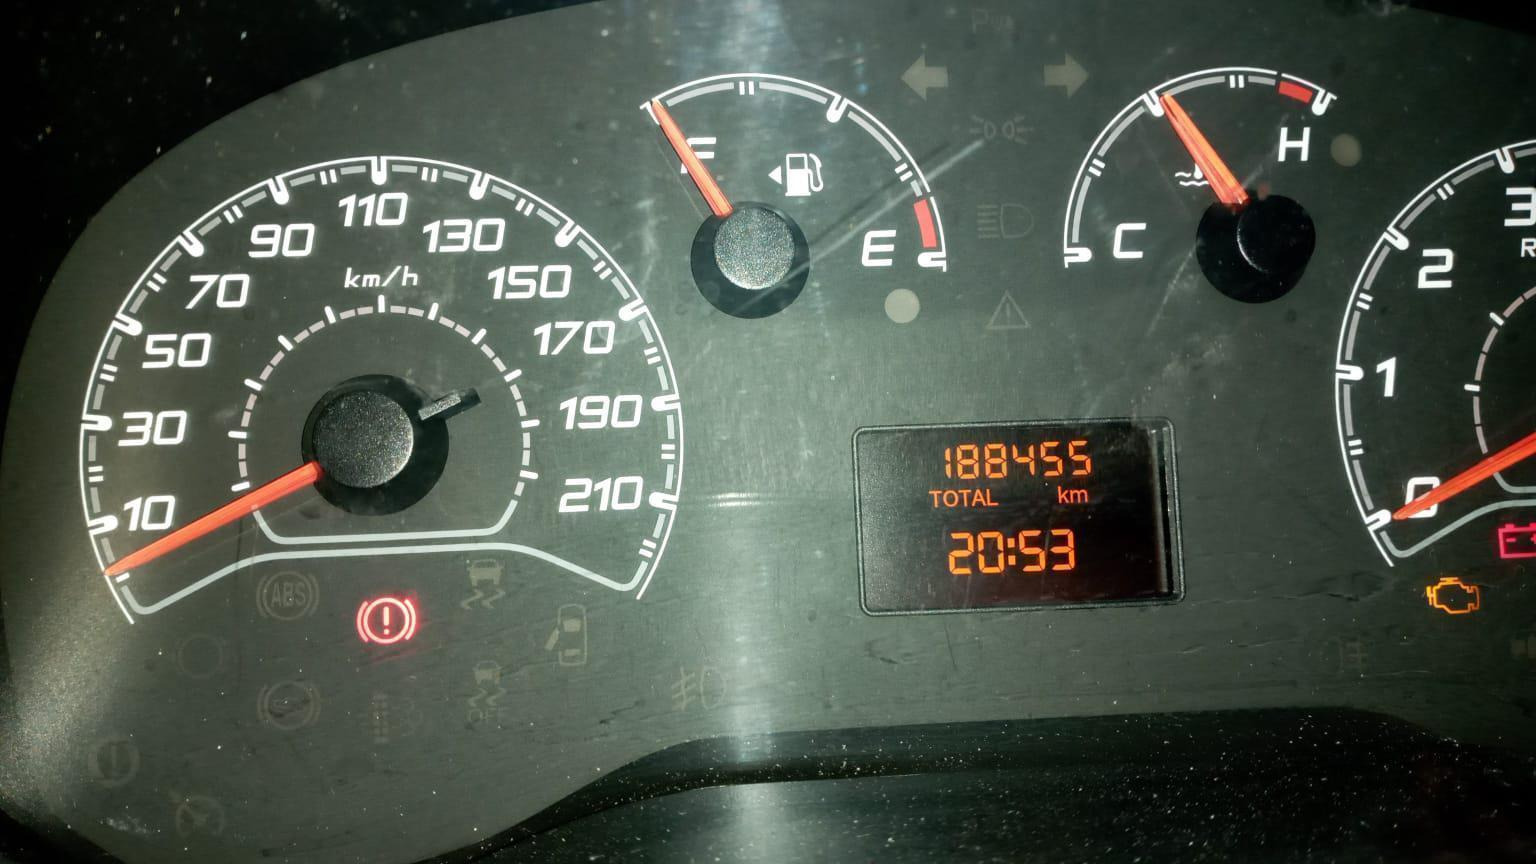0: (976, 530, 1005, 574)
1: (942, 446, 952, 479)
2: (946, 532, 974, 575)
3: (1048, 527, 1075, 571)
4: (1011, 443, 1036, 476)
5: (1018, 529, 1047, 573), (1039, 440, 1063, 477), (1067, 440, 1091, 476)
8: (983, 442, 1009, 479), (955, 443, 979, 479)
X: (942, 489, 960, 508), (1006, 536, 1017, 567), (1068, 489, 1089, 504), (926, 489, 942, 508), (971, 487, 985, 507), (985, 487, 999, 507), (957, 488, 971, 508), (1056, 485, 1069, 504)
odometer: (846, 412, 1188, 622)
